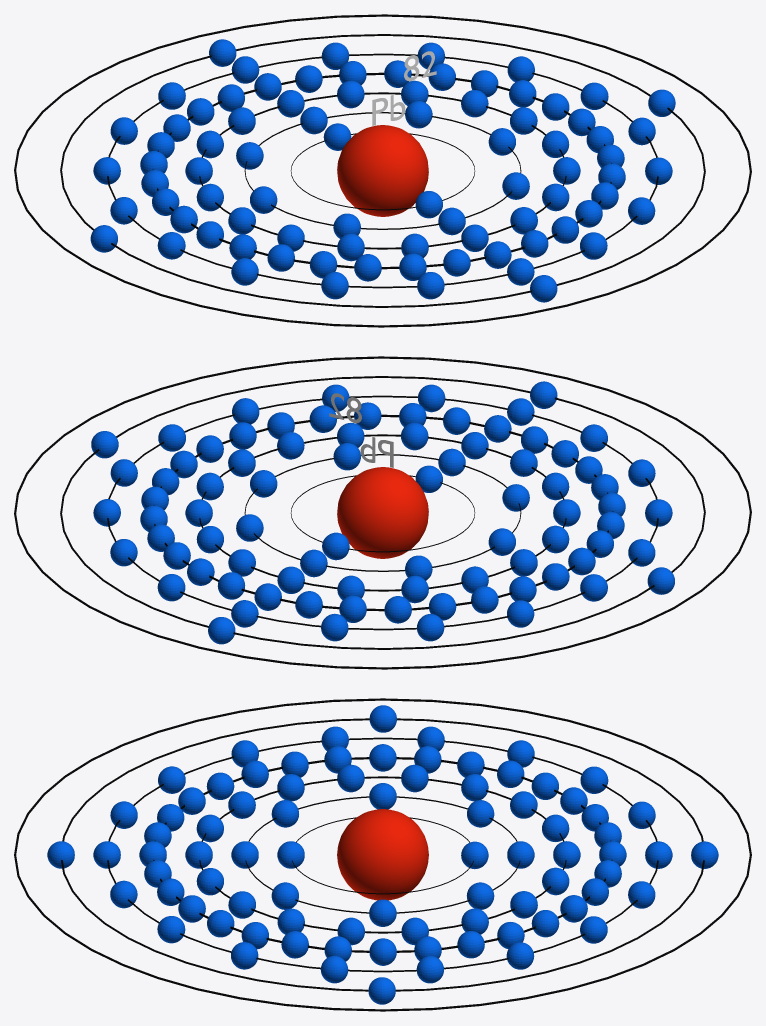
3 renders of one model, top to bottom at view 1: azimuth 30°, elevation 25°; view 2: azimuth 150°, elevation 25°; view 3: azimuth 270°, elevation 25°, orthographic.
Parts seen in each view (by area): view 1: Pb4, Pb5, Pb3, Proton, Pb2, n7, n6, Pb6, n5, Pb1, n3, n4 (+1 smaller); view 2: Pb4, Pb5, Pb3, Proton, Pb2, n7, n6, Pb6, n5, Pb1, n3, n4 (+1 smaller); view 3: Pb4, Pb3, Pb5, Proton, Pb2, n7, n6, Pb6, n5, Pb1, n3, n4 (+2 smaller).
Boxes of the visible parts, left/top/right/bottom form: Pb4: left=140, top=60, right=625, bottom=281; Pb5: left=93, top=42, right=672, bottom=299; Pb3: left=185, top=80, right=580, bottom=261; Proton: left=337, top=125, right=428, bottom=216; Pb2: left=236, top=101, right=529, bottom=238; n7: left=14, top=14, right=751, bottom=327; n6: left=60, top=34, right=705, bottom=307; Pb6: left=90, top=39, right=675, bottom=302; n5: left=107, top=53, right=658, bottom=288; Pb1: left=323, top=123, right=442, bottom=218; n3: left=199, top=92, right=566, bottom=249; n4: left=152, top=72, right=611, bottom=269; Pb4: left=140, top=402, right=625, bottom=623; Pb5: left=93, top=384, right=672, bottom=641; Pb3: left=185, top=422, right=580, bottom=603; Proton: left=337, top=467, right=428, bottom=558; Pb2: left=236, top=443, right=529, bottom=580; n7: left=14, top=356, right=751, bottom=669; n6: left=60, top=376, right=705, bottom=649; Pb6: left=91, top=381, right=674, bottom=644; n5: left=107, top=395, right=658, bottom=630; Pb1: left=322, top=465, right=442, bottom=560; n3: left=199, top=434, right=566, bottom=591; n4: left=153, top=414, right=613, bottom=611; Pb4: left=139, top=744, right=626, bottom=965; Pb3: left=185, top=764, right=580, bottom=945; Pb5: left=93, top=726, right=672, bottom=983; Proton: left=337, top=809, right=428, bottom=900; Pb2: left=231, top=783, right=534, bottom=926; n7: left=14, top=698, right=751, bottom=1011; n6: left=61, top=718, right=704, bottom=991; Pb6: left=47, top=705, right=718, bottom=1004; n5: left=107, top=737, right=658, bottom=972; Pb1: left=277, top=841, right=488, bottom=869; n3: left=199, top=776, right=566, bottom=933; n4: left=153, top=757, right=612, bottom=952.
Bounding box in the file's own units: 802 × 180 × 802.
